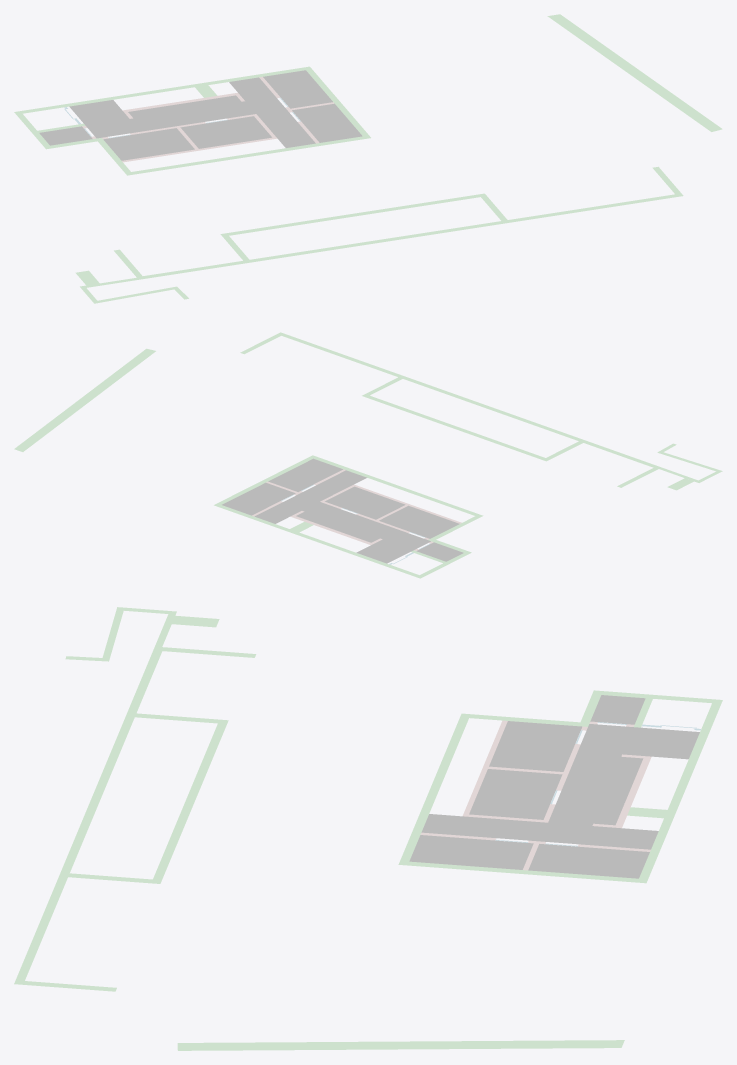
Rendered from floor-491300.glb.
3 renders of one model, top to bottom at view 1: azimuth 30°, elevation 25°; view 2: azimuth 150°, elevation 25°; view 3: azimuth 270°, elevation 25°, orthographic. The views are drawn at different scales.
Parts seen in each view (by area): view 1: SectionBody_55,d8938ba9-1408-46d0-8d26-ec291ab291a2, SectionBody_47,54f77693-ed38-455d-924d-131b2d241f34, SectionBody_48,739839fe-582c-46f9-984d-6acb4318c601, SectionBody_26,fcdd2191-21df-4166-8365-80c6cc127b71, SectionBody_50,a129953a-5615-4086-8058-d987586a3560, SectionBody_9,5e9910b8-ef5e-4b7b-a94d-14f158ee2309, SectionBody_53,9a3dd0fe-940e-4f4b-a955-e41f648d4713, SectionBody_37,3d508e53-df0b-4478-9011-aae60bf769f3, SectionBody_52,4cef6a23-a4a2-4ec9-b2fb-d551e5929b31, SectionBody_40,898e0191-f130-4191-be65-129fb487e694, SectionBody_51,20856df9-3a90-4011-bfa3-dbb28b31c4b3, SectionBody_18,de5a4e02-6c36-4d39-853e-234da34614a0; view 2: SectionBody_55,d8938ba9-1408-46d0-8d26-ec291ab291a2, SectionBody_47,54f77693-ed38-455d-924d-131b2d241f34, SectionBody_48,739839fe-582c-46f9-984d-6acb4318c601, SectionBody_26,fcdd2191-21df-4166-8365-80c6cc127b71, SectionBody_50,a129953a-5615-4086-8058-d987586a3560, SectionBody_9,5e9910b8-ef5e-4b7b-a94d-14f158ee2309, SectionBody_53,9a3dd0fe-940e-4f4b-a955-e41f648d4713, SectionBody_37,3d508e53-df0b-4478-9011-aae60bf769f3, SectionBody_52,4cef6a23-a4a2-4ec9-b2fb-d551e5929b31, SectionBody_40,898e0191-f130-4191-be65-129fb487e694, SectionBody_51,20856df9-3a90-4011-bfa3-dbb28b31c4b3, SectionBody_18,de5a4e02-6c36-4d39-853e-234da34614a0; view 3: SectionBody_55,d8938ba9-1408-46d0-8d26-ec291ab291a2, SectionBody_48,739839fe-582c-46f9-984d-6acb4318c601, SectionBody_26,fcdd2191-21df-4166-8365-80c6cc127b71, SectionBody_50,a129953a-5615-4086-8058-d987586a3560, SectionBody_47,54f77693-ed38-455d-924d-131b2d241f34, SectionBody_9,5e9910b8-ef5e-4b7b-a94d-14f158ee2309, SectionBody_53,9a3dd0fe-940e-4f4b-a955-e41f648d4713, SectionBody_37,3d508e53-df0b-4478-9011-aae60bf769f3, SectionBody_52,4cef6a23-a4a2-4ec9-b2fb-d551e5929b31, SectionBody_40,898e0191-f130-4191-be65-129fb487e694, SectionBody_51,20856df9-3a90-4011-bfa3-dbb28b31c4b3, SectionBody_18,de5a4e02-6c36-4d39-853e-234da34614a0.
Boxes of the visible parts, bbox=[...] form: SectionBody_55,d8938ba9-1408-46d0-8d26-ec291ab291a2: bbox=[69, 77, 315, 147]; SectionBody_47,54f77693-ed38-455d-924d-131b2d241f34: bbox=[137, 193, 683, 279]; SectionBody_48,739839fe-582c-46f9-984d-6acb4318c601: bbox=[547, 14, 722, 131]; SectionBody_26,fcdd2191-21df-4166-8365-80c6cc127b71: bbox=[103, 128, 194, 160]; SectionBody_50,a129953a-5615-4086-8058-d987586a3560: bbox=[180, 116, 271, 148]; SectionBody_9,5e9910b8-ef5e-4b7b-a94d-14f158ee2309: bbox=[292, 103, 362, 142]; SectionBody_53,9a3dd0fe-940e-4f4b-a955-e41f648d4713: bbox=[263, 70, 332, 108]; SectionBody_37,3d508e53-df0b-4478-9011-aae60bf769f3: bbox=[14, 66, 311, 114]; SectionBody_52,4cef6a23-a4a2-4ec9-b2fb-d551e5929b31: bbox=[227, 194, 480, 235]; SectionBody_40,898e0191-f130-4191-be65-129fb487e694: bbox=[131, 136, 364, 174]; SectionBody_51,20856df9-3a90-4011-bfa3-dbb28b31c4b3: bbox=[39, 126, 92, 145]; SectionBody_18,de5a4e02-6c36-4d39-853e-234da34614a0: bbox=[306, 69, 370, 138]; SectionBody_55,d8938ba9-1408-46d0-8d26-ec291ab291a2: bbox=[254, 470, 430, 563]; SectionBody_47,54f77693-ed38-455d-924d-131b2d241f34: bbox=[277, 332, 661, 469]; SectionBody_48,739839fe-582c-46f9-984d-6acb4318c601: bbox=[14, 348, 155, 451]; SectionBody_26,fcdd2191-21df-4166-8365-80c6cc127b71: bbox=[379, 505, 459, 538]; SectionBody_50,a129953a-5615-4086-8058-d987586a3560: bbox=[325, 486, 405, 519]; SectionBody_9,5e9910b8-ef5e-4b7b-a94d-14f158ee2309: bbox=[268, 458, 342, 491]; SectionBody_53,9a3dd0fe-940e-4f4b-a955-e41f648d4713: bbox=[222, 482, 295, 515]; SectionBody_37,3d508e53-df0b-4478-9011-aae60bf769f3: bbox=[214, 503, 423, 578]; SectionBody_52,4cef6a23-a4a2-4ec9-b2fb-d551e5929b31: bbox=[366, 395, 545, 459]; SectionBody_40,898e0191-f130-4191-be65-129fb487e694: bbox=[314, 457, 478, 515]; SectionBody_51,20856df9-3a90-4011-bfa3-dbb28b31c4b3: bbox=[416, 542, 463, 561]; SectionBody_18,de5a4e02-6c36-4d39-853e-234da34614a0: bbox=[217, 455, 316, 504]; SectionBody_55,d8938ba9-1408-46d0-8d26-ec291ab291a2: bbox=[421, 724, 699, 849]; SectionBody_48,739839fe-582c-46f9-984d-6acb4318c601: bbox=[177, 1040, 624, 1050]; SectionBody_26,fcdd2191-21df-4166-8365-80c6cc127b71: bbox=[489, 721, 581, 771]; SectionBody_50,a129953a-5615-4086-8058-d987586a3560: bbox=[469, 769, 562, 819]; SectionBody_47,54f77693-ed38-455d-924d-131b2d241f34: bbox=[14, 646, 163, 984]; SectionBody_9,5e9910b8-ef5e-4b7b-a94d-14f158ee2309: bbox=[409, 835, 533, 869]; SectionBody_53,9a3dd0fe-940e-4f4b-a955-e41f648d4713: bbox=[528, 844, 649, 878]; SectionBody_37,3d508e53-df0b-4478-9011-aae60bf769f3: bbox=[637, 699, 722, 883]; SectionBody_52,4cef6a23-a4a2-4ec9-b2fb-d551e5929b31: bbox=[153, 723, 226, 879]; SectionBody_40,898e0191-f130-4191-be65-129fb487e694: bbox=[400, 717, 468, 861]; SectionBody_51,20856df9-3a90-4011-bfa3-dbb28b31c4b3: bbox=[590, 695, 645, 724]; SectionBody_18,de5a4e02-6c36-4d39-853e-234da34614a0: bbox=[398, 861, 638, 882].
Bounding box in the file's own units: 28019 × 0 × 18915.
